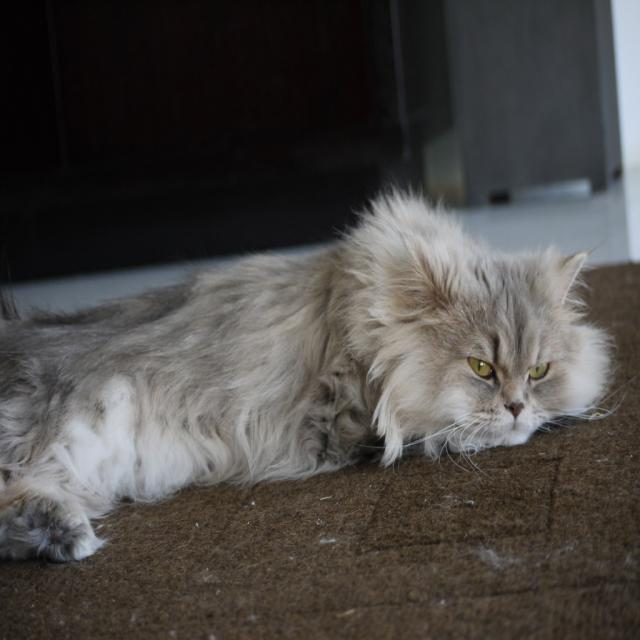Cat: (0, 181, 624, 555)
